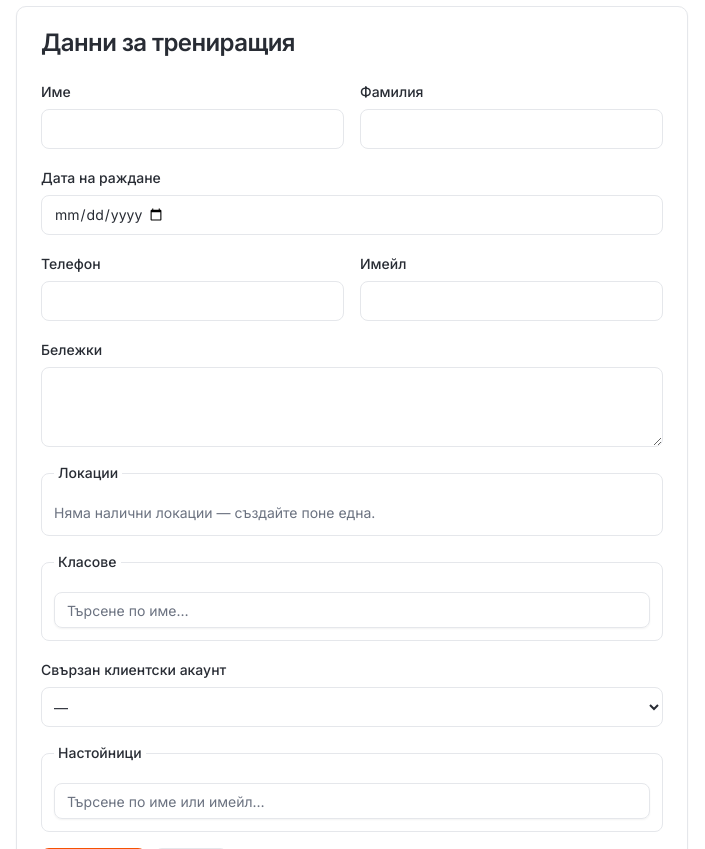
Test: NewTraineePage — customer linking (TKT-0009) › shows the conflict message when the API returns 409
Type "Ada" into the field labelled "Име" at (192, 129), box top-left (41, 109), bottom-right (344, 149)
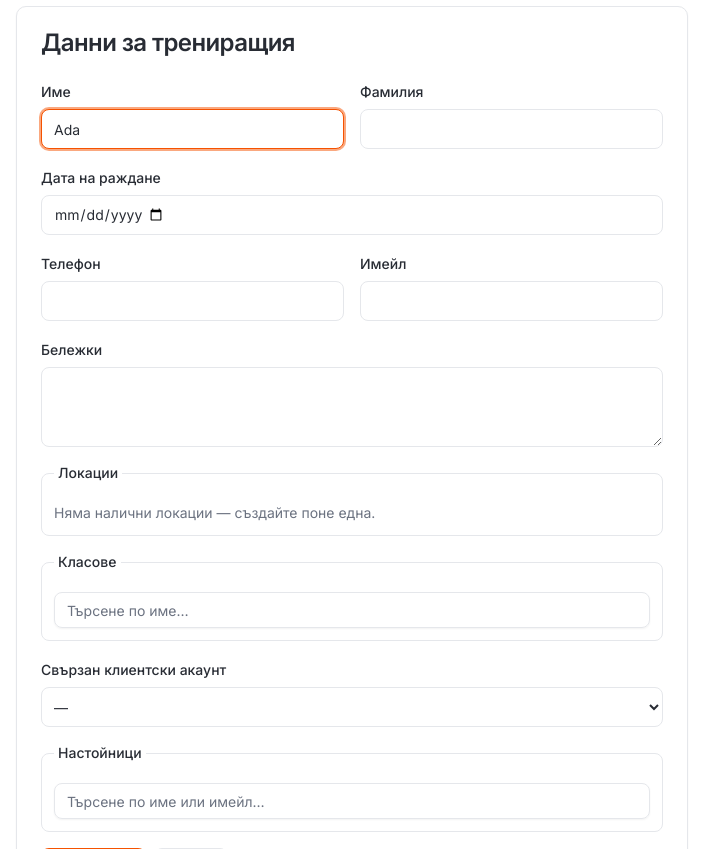
Type "Lovelace" into the field labelled "Фамилия" at (512, 129), box top-left (360, 109), bottom-right (663, 149)
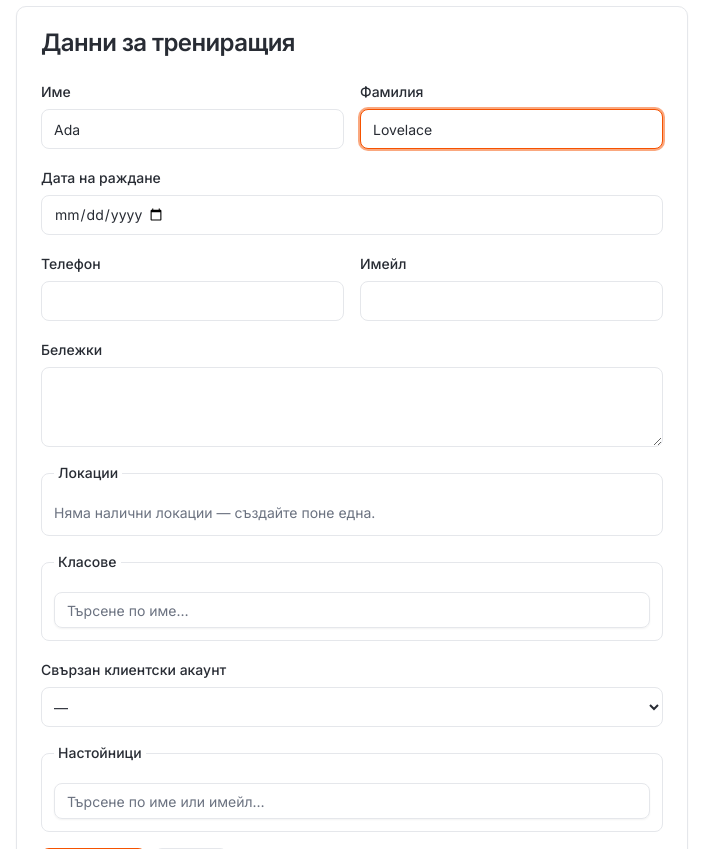
Type "1990-01-01" into the date field labelled "Дата на раждане" at (352, 215), box top-left (41, 195), bottom-right (663, 235)
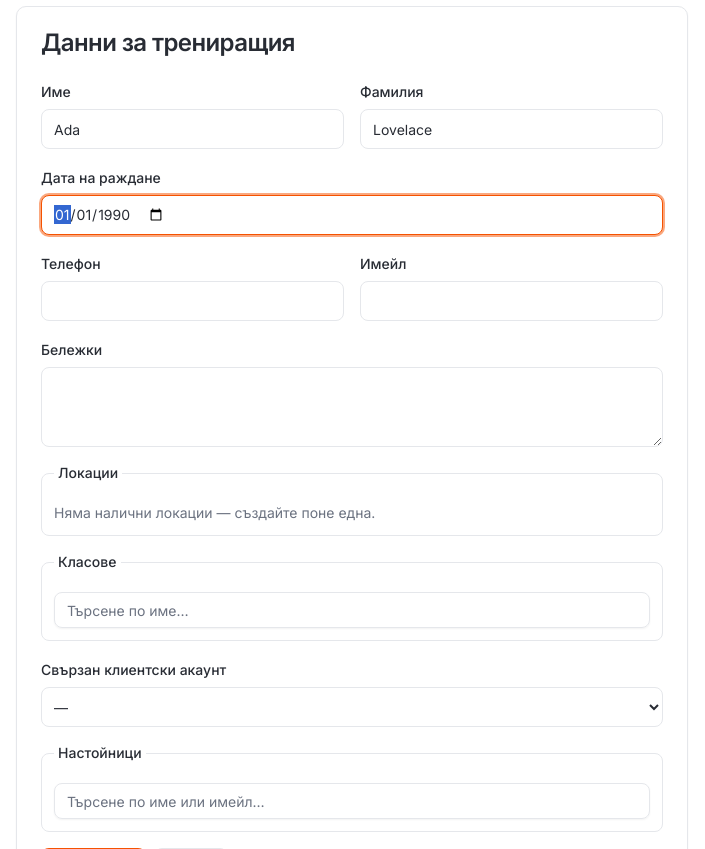
Select "Petya Parent" in the dropdown labelled "Свързан клиентски акаунт" at (352, 707), box top-left (41, 687), bottom-right (663, 727)
(page scrolled)
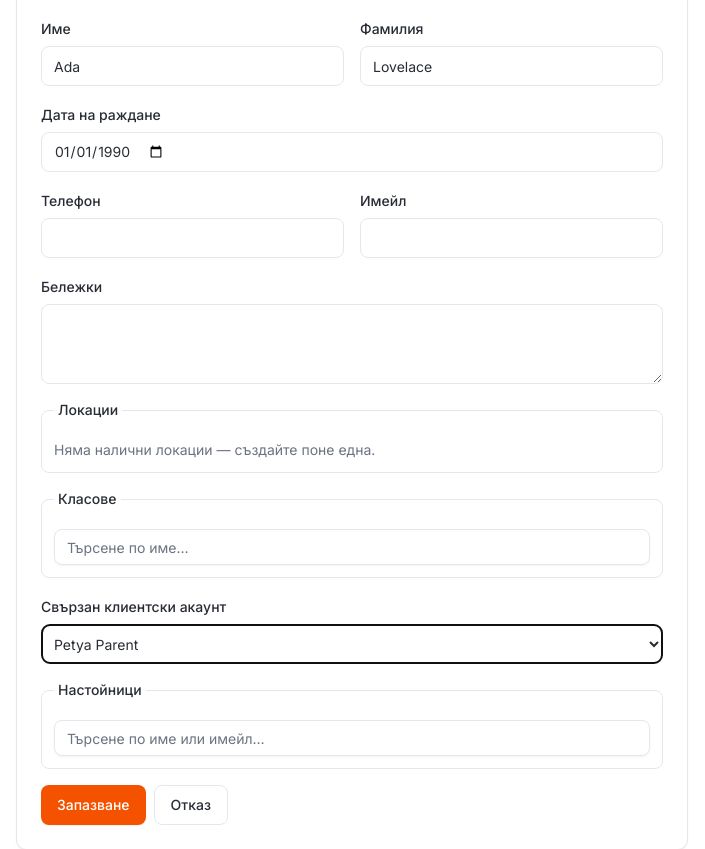
Click the button "Запазване" at (93, 805), box top-left (41, 785), bottom-right (146, 825)
(page scrolled)
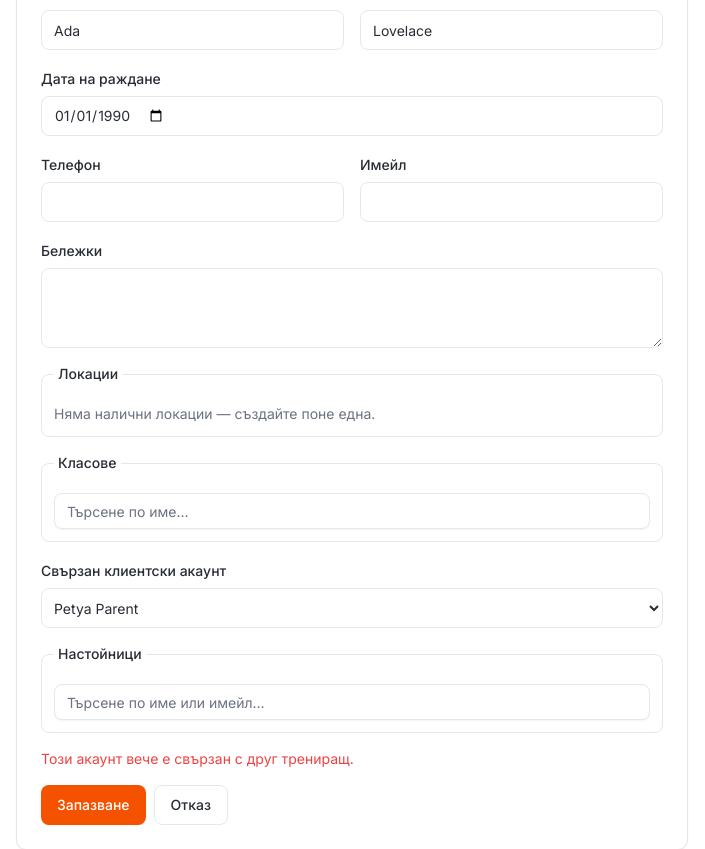
Check: the text "Този акаунт вече е свързан с друг трениращ." is shown, box top-left (41, 750), bottom-right (354, 767)
